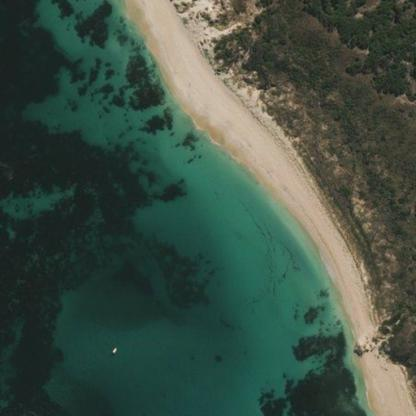ship: (106, 341, 120, 358)
